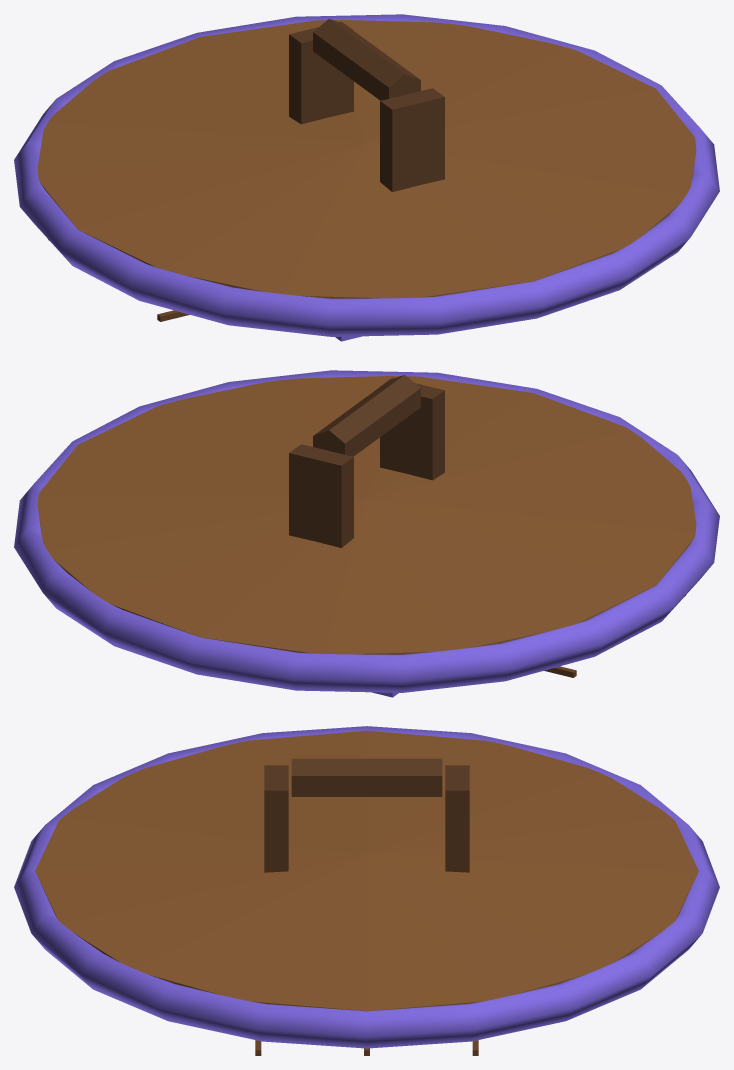
Rendered from Weapon_Shield_Starlight.fbx.
3 views of the same model, one above another, from view 1: azimuth 30°, elevation 25°; view 2: azimuth 150°, elevation 25°; view 3: azimuth 270°, elevation 25° (orthographic).
Visible parts, largest first — view 1: Weapon_Shield_Starlight; view 2: Weapon_Shield_Starlight; view 3: Weapon_Shield_Starlight.
Boxes of the visible parts, x1,y1,x2,y2 form: Weapon_Shield_Starlight: [14, 14, 719, 341]; Weapon_Shield_Starlight: [14, 370, 719, 697]; Weapon_Shield_Starlight: [14, 726, 719, 1055].
Bounding box in the file's own units: 0.234 × 0.0763 × 0.234.
